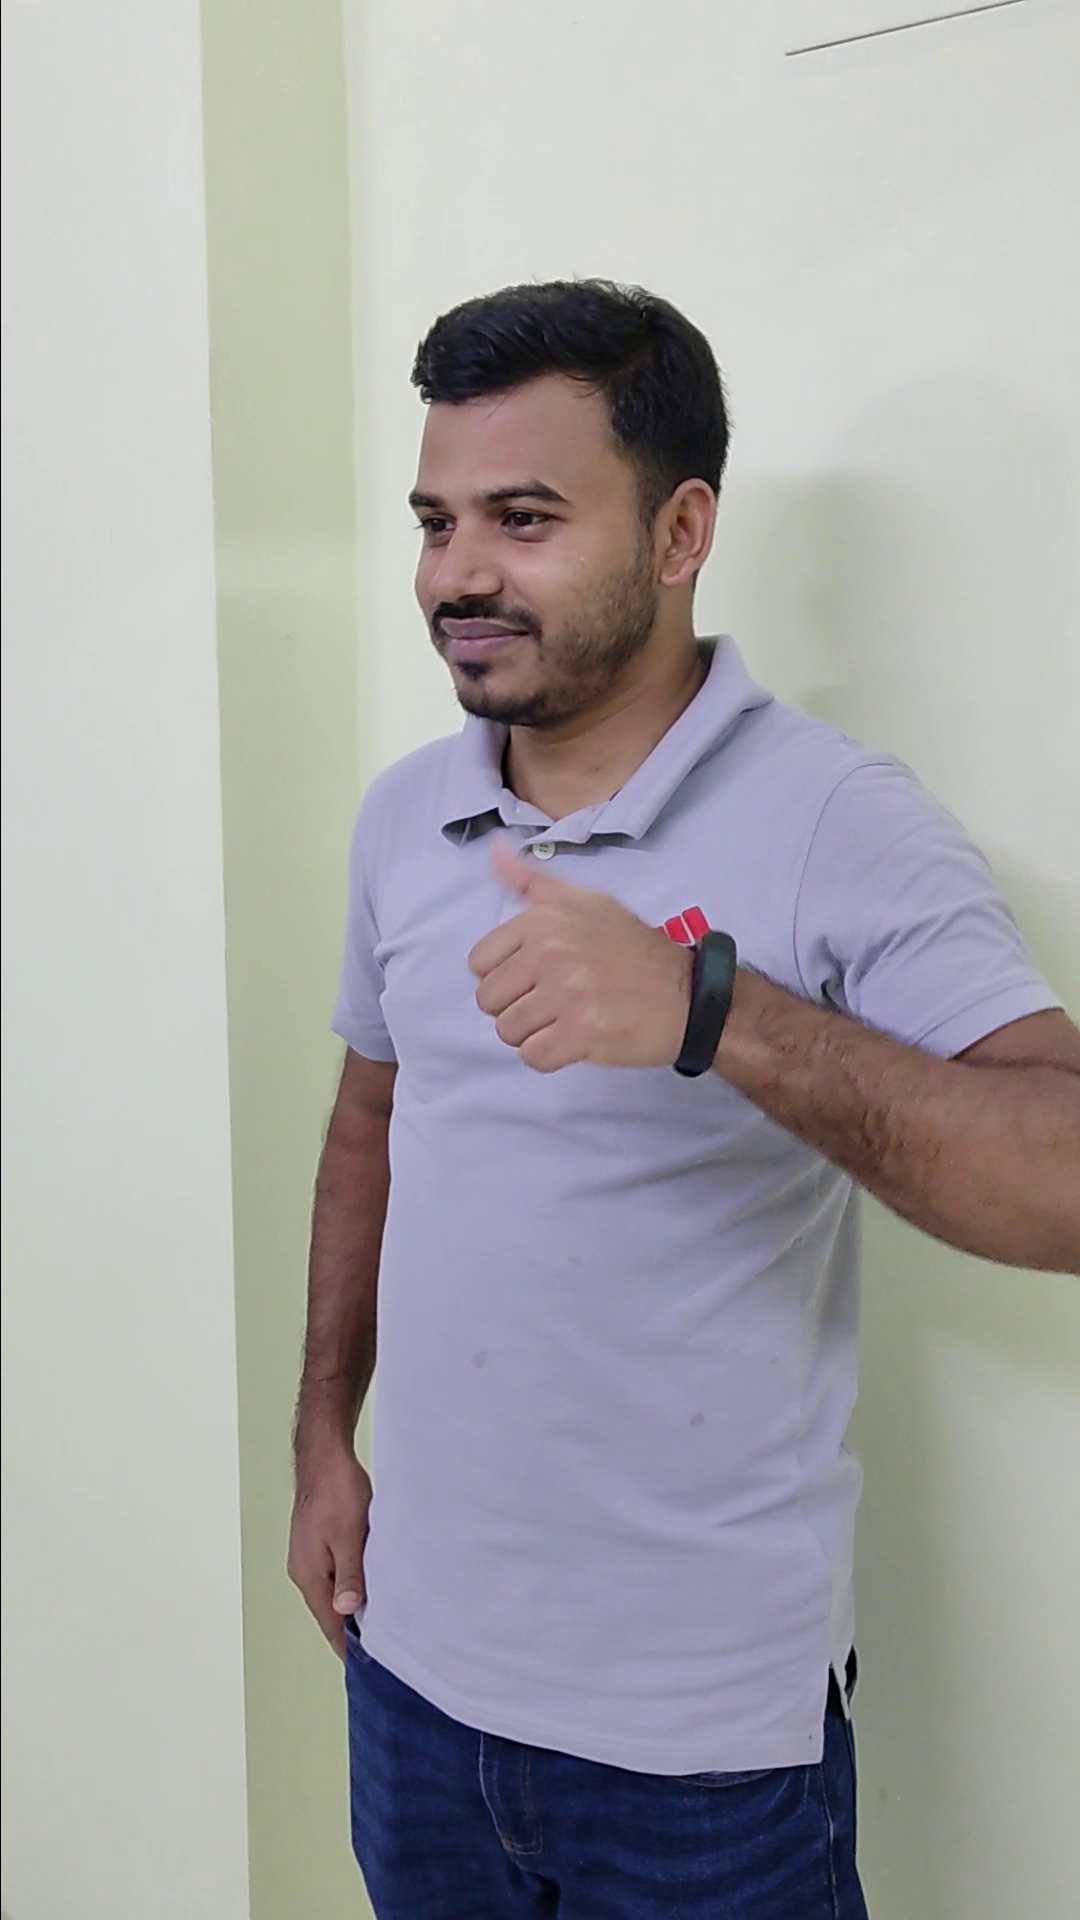Like: (452, 764, 708, 1100)
None: (258, 1381, 406, 1675)
